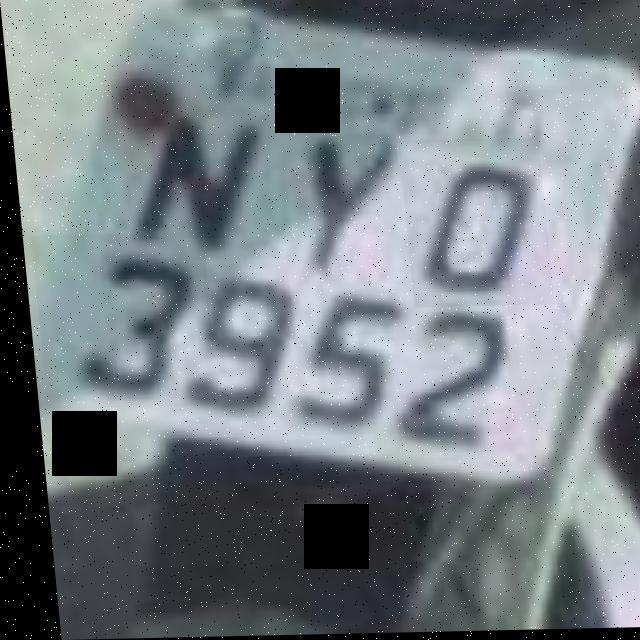2: (347, 287, 536, 470)
3: (26, 233, 211, 409)
5: (249, 273, 418, 441)
9: (145, 255, 313, 430)
N: (83, 83, 289, 263)
O: (395, 140, 548, 309)
Y: (258, 113, 418, 288)
